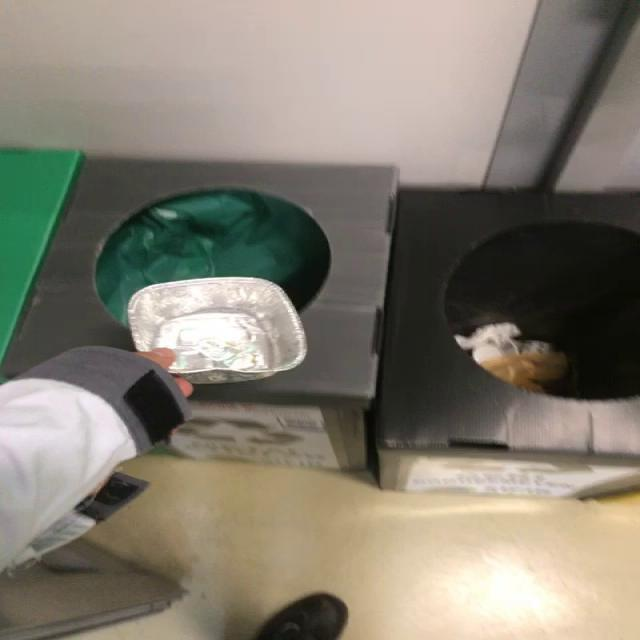Bin: (3, 158, 397, 470)
Metal: (128, 277, 305, 384)
